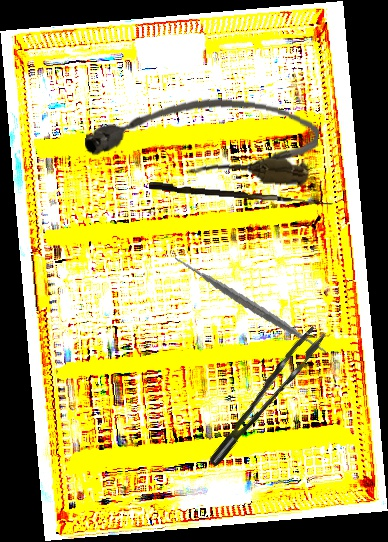Cannula: (82, 87, 322, 188)
Hook Surgical: (148, 181, 334, 206)
Spatula Surgical: (173, 228, 328, 381)
Tissue Forceps: (191, 323, 339, 468)
